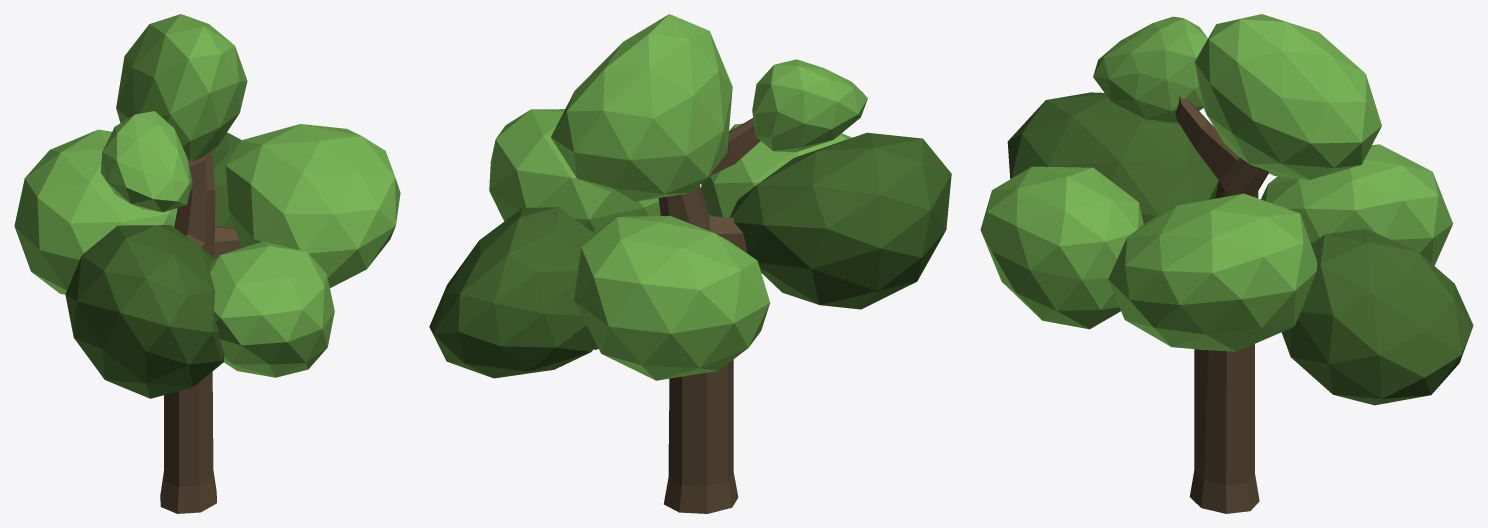
File: Tree [04].fbx
3 views of the same model, side by side, from view 1: azimuth 30°, elevation 25°; view 2: azimuth 150°, elevation 25°; view 3: azimuth 270°, elevation 25° (orthographic). The views are drawn at different scales.
Visible parts, largest first — view 1: Cylinder.003; view 2: Cylinder.003; view 3: Cylinder.003.
Part boxes in pixels (box(x1,y1,x2,y2)): Cylinder.003: box(14, 14, 400, 513); Cylinder.003: box(429, 14, 951, 513); Cylinder.003: box(980, 14, 1473, 513).
Size of the model in its own units: 316 by 391 by 356.
